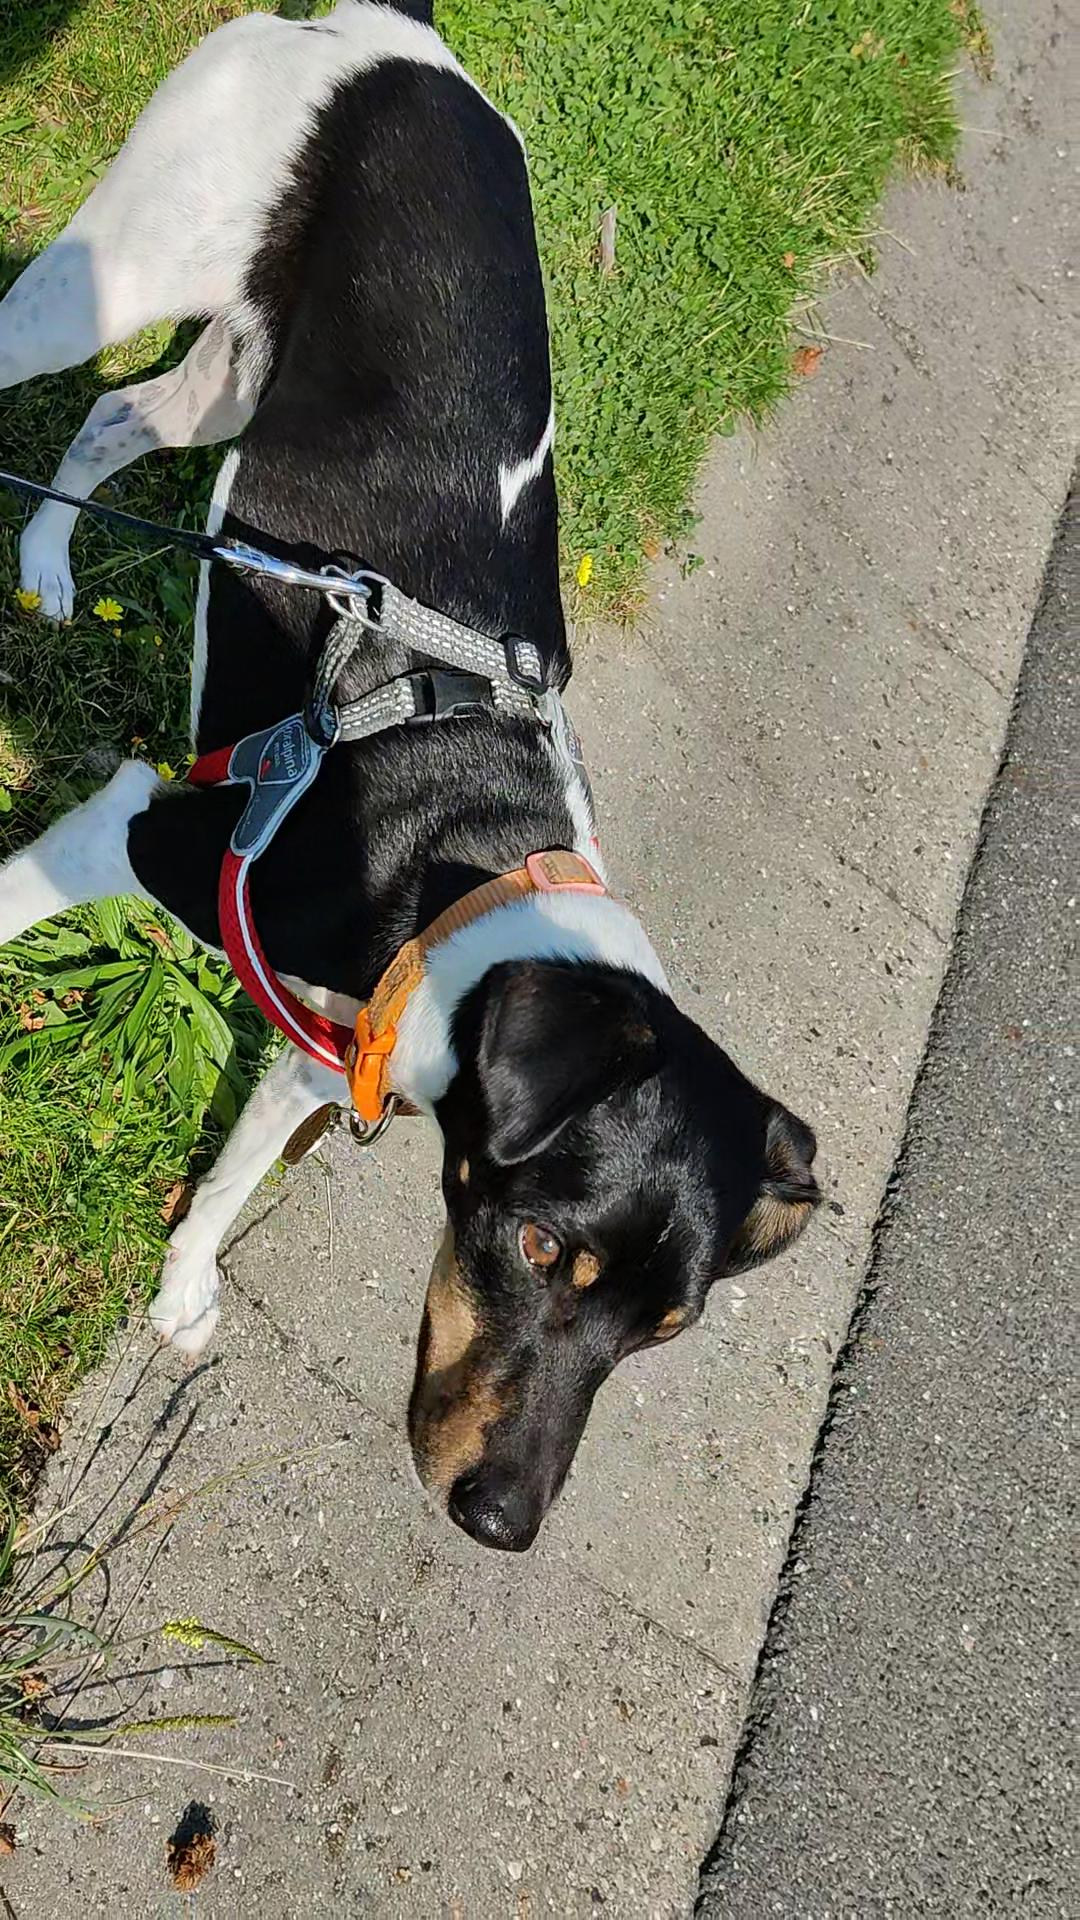Dog: (0, 0, 837, 1556)
